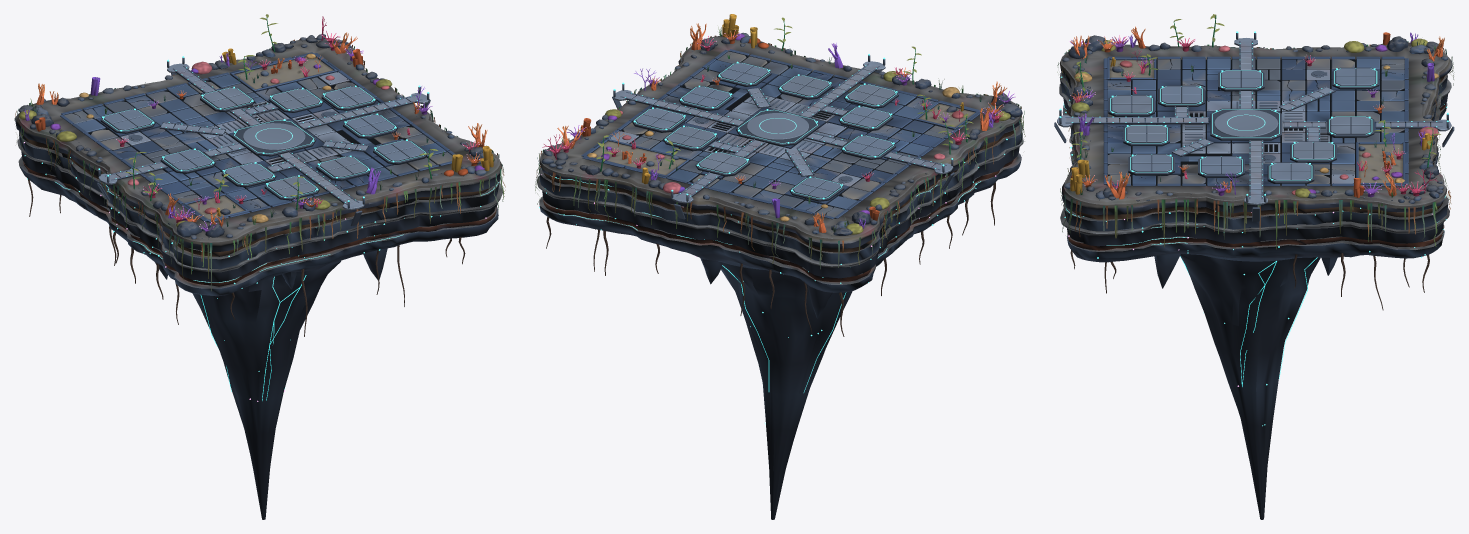
File: base_island.glb
The picture shows the model from 3 angles, left to right: view 1: azimuth 30°, elevation 25°; view 2: azimuth 150°, elevation 25°; view 3: azimuth 270°, elevation 25°; orthographic projection. The views are drawn at different scales.
Parts seen in each view (by area): view 1: Island_rock, Island_stone, Island_metal, Island_coral, Island_algae, Headquarters, Island_glow, Barracks, OreExtractor, Laboratory, DescentModule, SolarPanel (+5 smaller); view 2: Island_rock, Island_stone, Island_metal, Island_coral, Island_algae, Headquarters, Barracks, DescentModule, OreExtractor, Laboratory, AlgaeFarm, CoralMine (+5 smaller); view 3: Island_rock, Island_stone, Island_metal, Island_coral, Island_algae, Headquarters, VolcanicKernel, DescentModule, SolarPanel, Barracks, PressureCapsule, CoralCitadel (+5 smaller).
Boxes of the visible parts, box(x1,y1,x2,y2) form: Island_rock: box(15, 34, 502, 519); Island_stone: box(60, 52, 455, 222); Island_metal: box(97, 57, 430, 226); Island_coral: box(19, 16, 493, 232); Island_algae: box(14, 14, 505, 336); Headquarters: box(232, 119, 316, 156); Island_glow: box(24, 56, 498, 400); Barracks: box(316, 155, 370, 181); OreExtractor: box(343, 113, 397, 139); Laboratory: box(160, 148, 215, 173); DescentModule: box(321, 85, 376, 110); SolarPanel: box(200, 86, 254, 112); Island_rock: box(536, 32, 1023, 519); Island_stone: box(581, 49, 980, 219); Island_metal: box(609, 55, 954, 219); Island_coral: box(542, 14, 1014, 234); Island_algae: box(535, 17, 1025, 336); Headquarters: box(736, 109, 819, 146); Barracks: box(778, 74, 832, 99); DescentModule: box(632, 107, 686, 132); OreExtractor: box(679, 85, 733, 110); Laboratory: box(841, 134, 895, 159); AlgaeFarm: box(663, 125, 717, 151); CoralMine: box(838, 105, 893, 131); Island_rock: box(1059, 35, 1452, 519); Island_stone: box(1103, 56, 1408, 186); Island_metal: box(1054, 33, 1454, 221); Island_coral: box(1069, 26, 1444, 199); Island_algae: box(1057, 14, 1454, 310); Headquarters: box(1210, 108, 1281, 141); VolcanicKernel: box(1332, 67, 1379, 89); DescentModule: box(1267, 162, 1314, 184); SolarPanel: box(1327, 116, 1374, 137); Barracks: box(1123, 124, 1169, 146); PressureCapsule: box(1108, 95, 1154, 116); CoralCitadel: box(1128, 154, 1174, 175).
Size of the model in its own units: 15.96 by 19.22 by 16.09.
